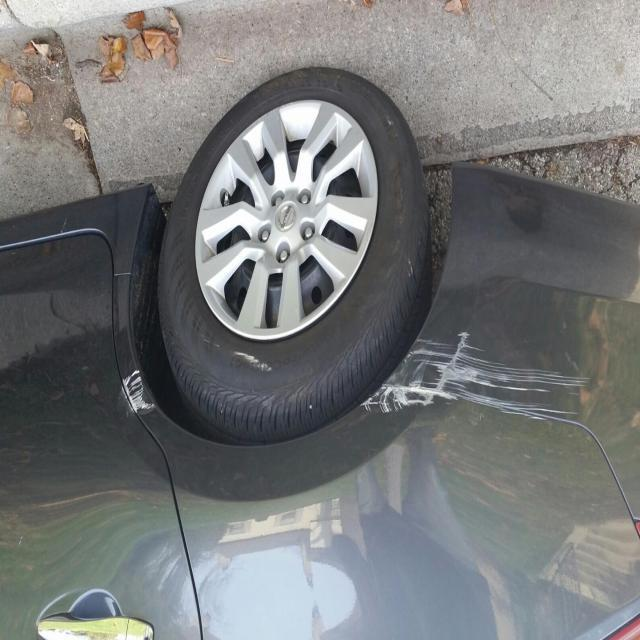scratch: (350, 338, 620, 432), (108, 359, 171, 431)
